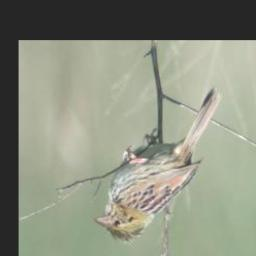Sparrow: (91, 85, 226, 246)
